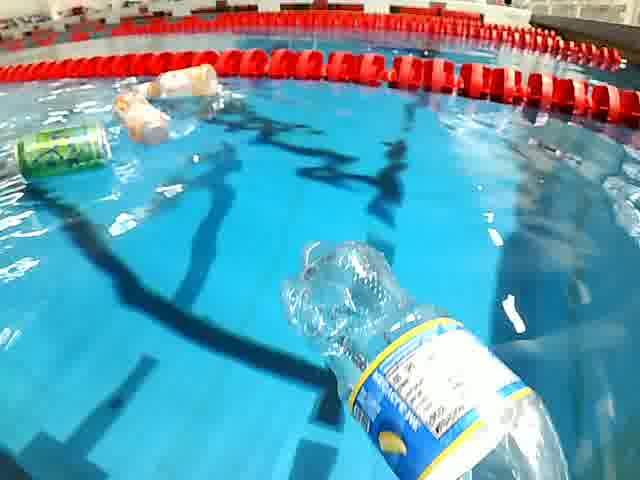Bottle: (275, 229, 570, 480), (130, 64, 226, 102), (109, 92, 174, 144)
Can: (11, 118, 117, 182)
